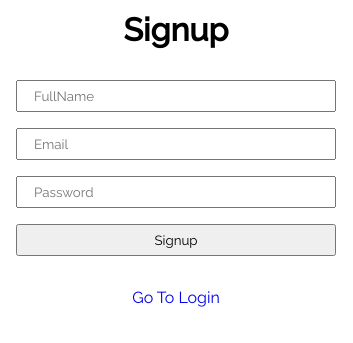
empty spec › the account exists
Type "Mevlüt Can Tuna" into the field with placeholder "FullName". click: (176,96)
box: [16,80,336,112]
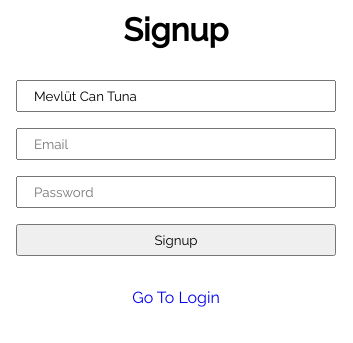
Type "mttuna90@gmail.com" into the field with placeholder "Email". click: (176,144)
box: [16,128,336,160]
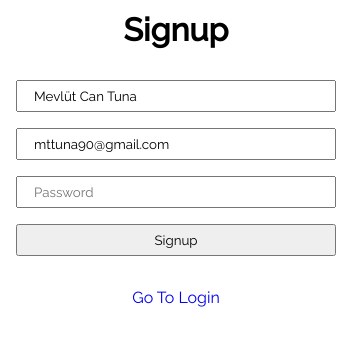
Type "123123" into the password field with placeholder "Password". click: (176,192)
box: [16,176,336,208]
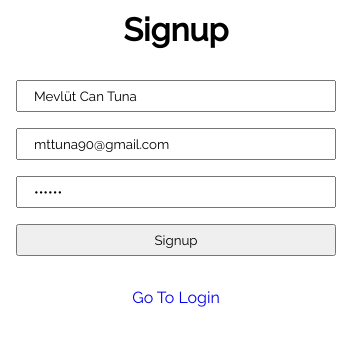
Click the button with test id "signup-btn". click: (176,240)
box: [16,224,336,256]
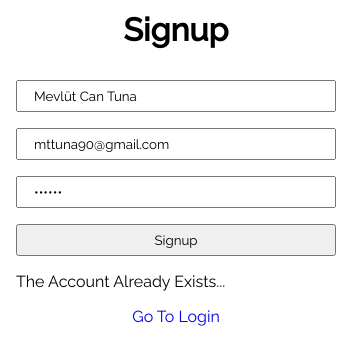
expect the text "The Account Already Exists..." is shown: met, box [16,272,225,291]
